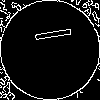I: (25, 25, 72, 46)
